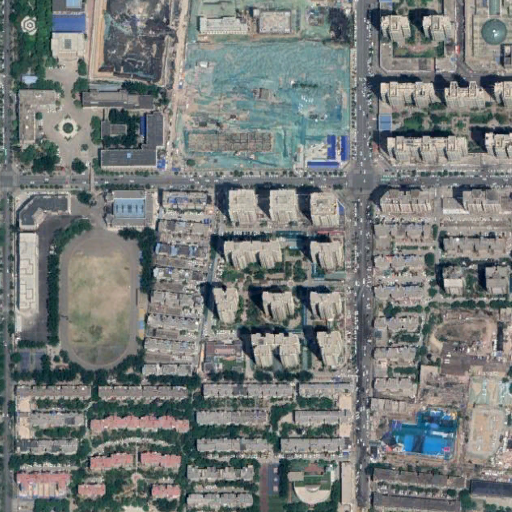cw: (175, 37, 351, 168)
